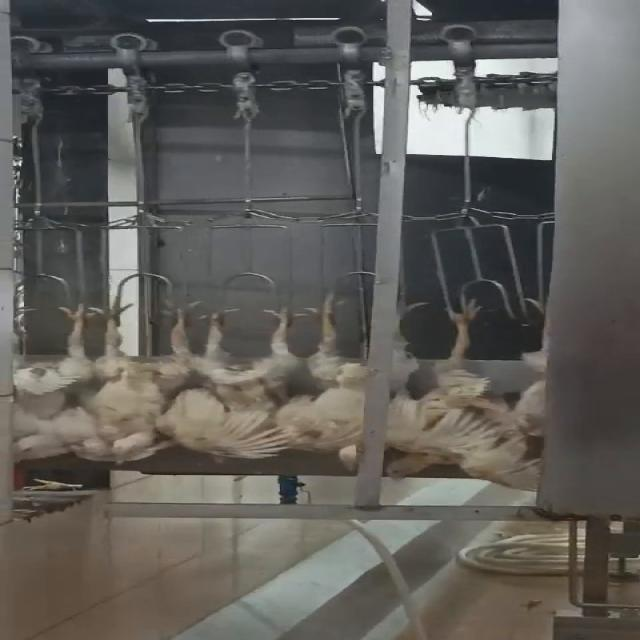chicken: (380, 294, 504, 481), (178, 304, 314, 472), (87, 302, 197, 470), (9, 298, 101, 471), (286, 291, 363, 474), (510, 319, 560, 440)
